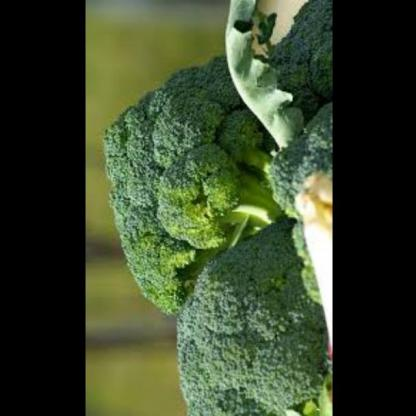broccoli: (103, 48, 273, 298), (162, 230, 328, 416), (241, 0, 331, 230)
